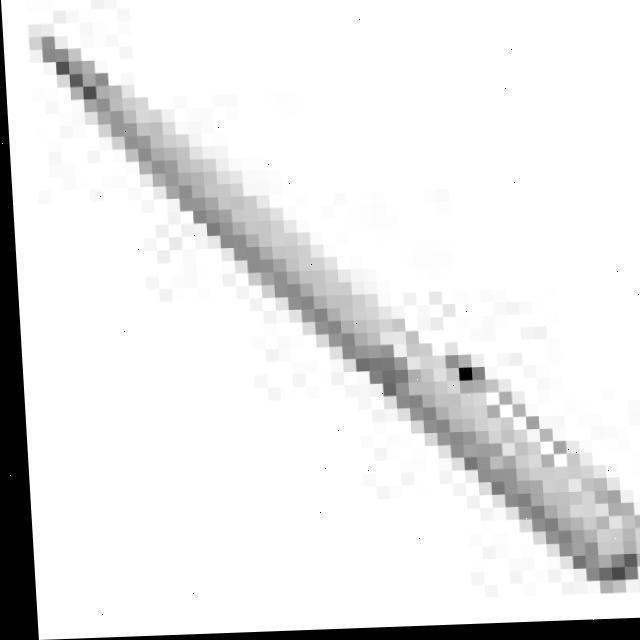Pen - Non Recyclable: (40, 8, 640, 614)
